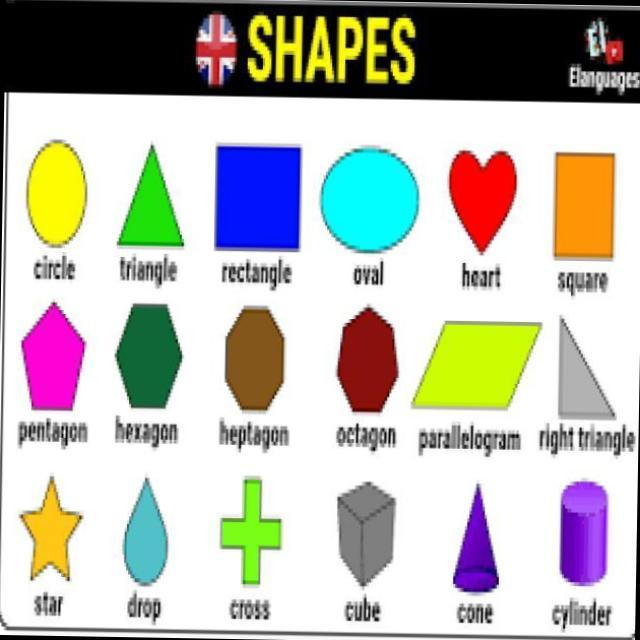circle: (308, 130, 419, 276), (18, 128, 112, 272)
cross: (208, 463, 294, 595)
square: (190, 128, 328, 278), (528, 130, 640, 304)
triangle: (106, 123, 202, 274), (548, 303, 625, 455)
